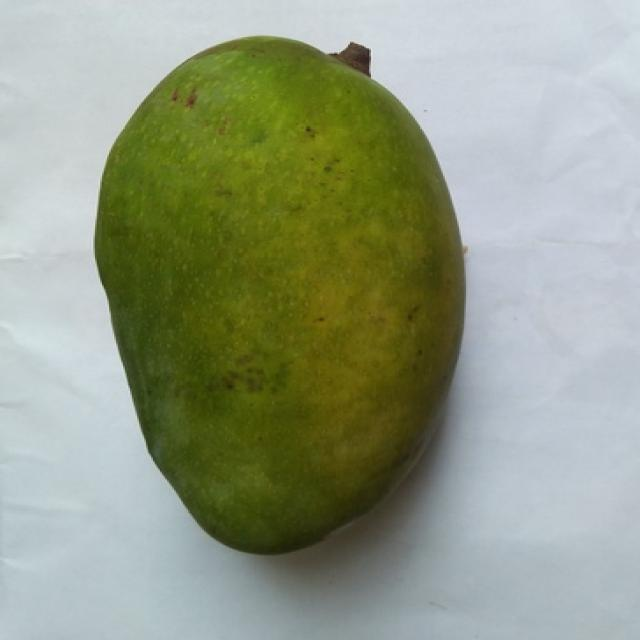Mango: (95, 37, 462, 553)
